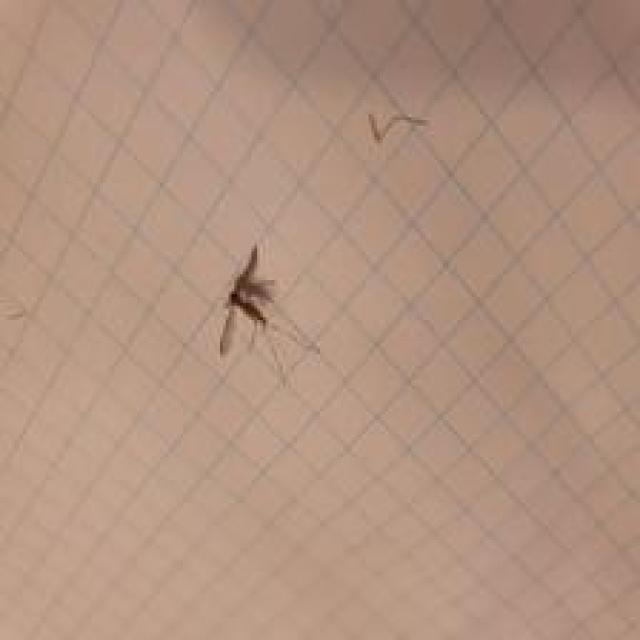Culex: (216, 242, 321, 384)
